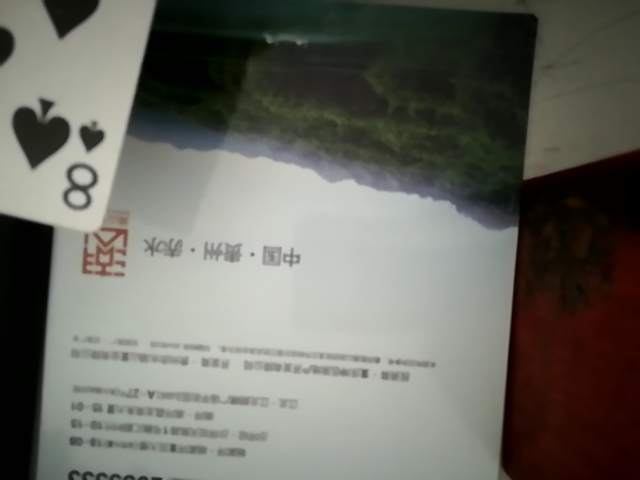ht 9: (0, 0, 186, 243)
